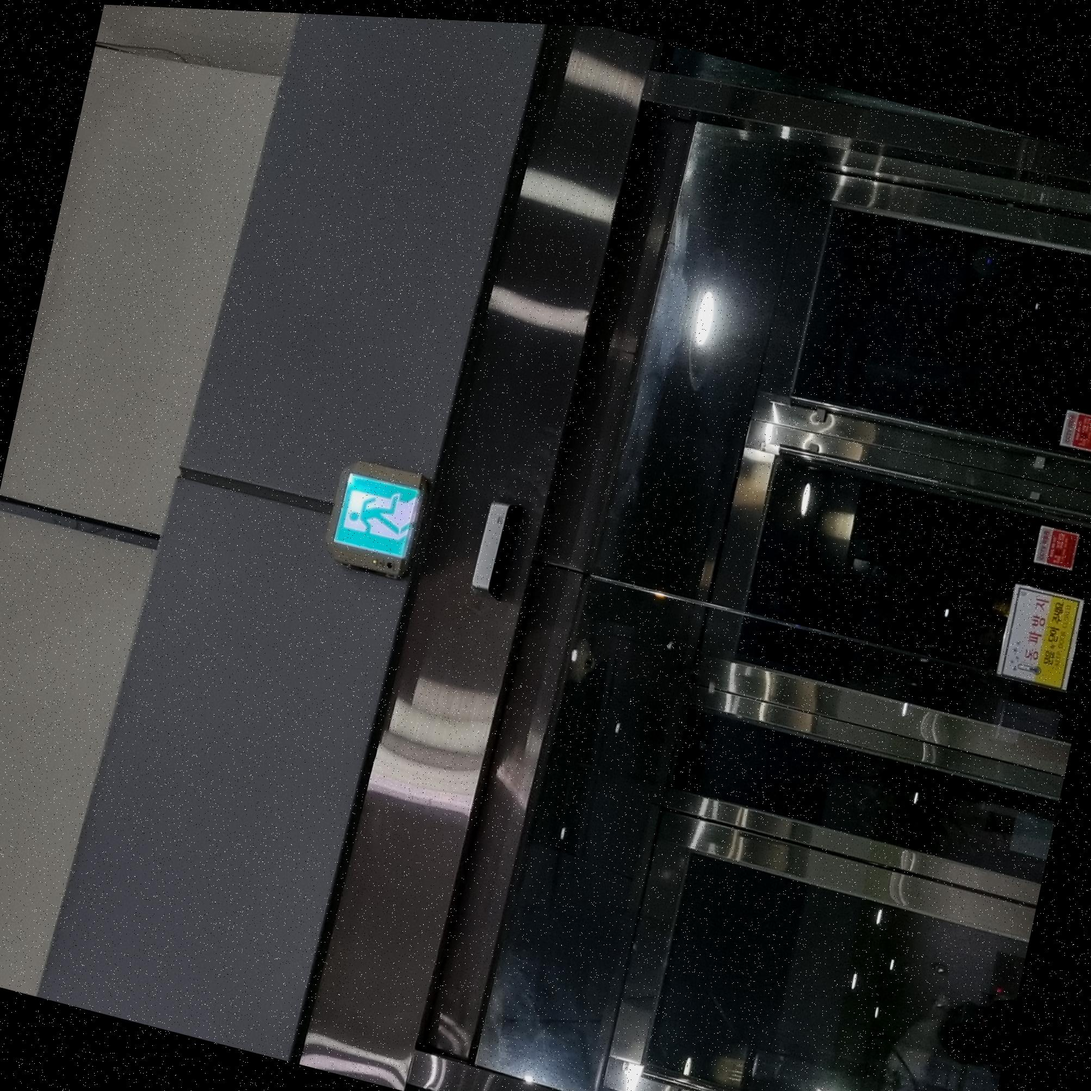emergency_exit: (325, 460, 429, 578), (996, 582, 1084, 692), (1031, 523, 1081, 571)
